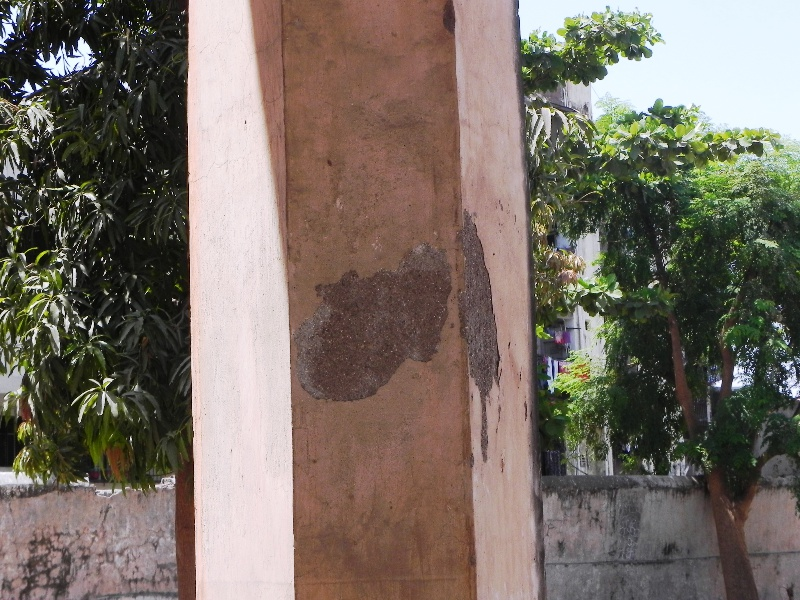Spalling: (287, 235, 453, 406), (456, 200, 505, 469), (438, 1, 462, 40)
